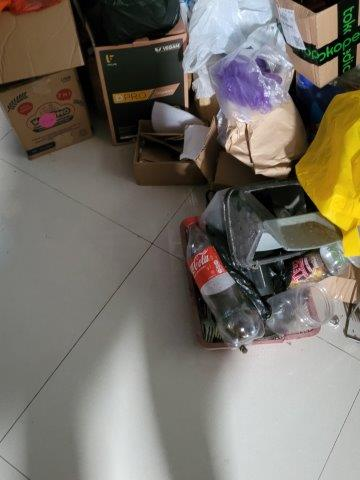botolplastik: (183, 217, 264, 344), (288, 243, 345, 283)
